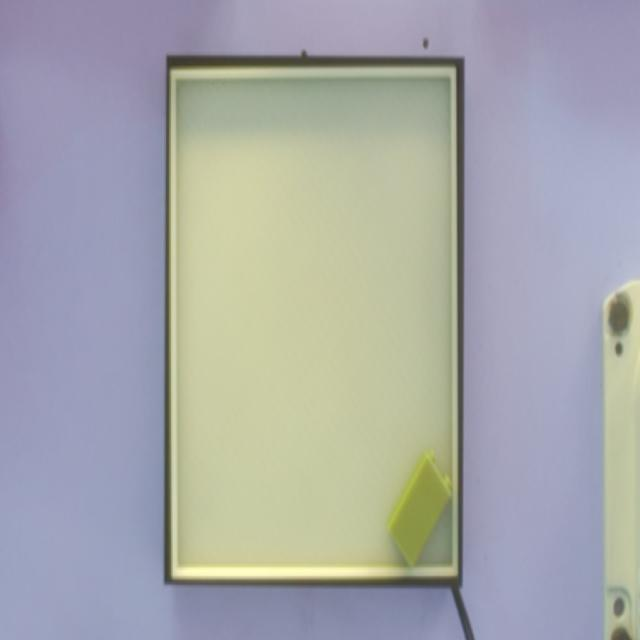bateria: (387, 450, 453, 572)
mesa: (163, 54, 464, 587)
